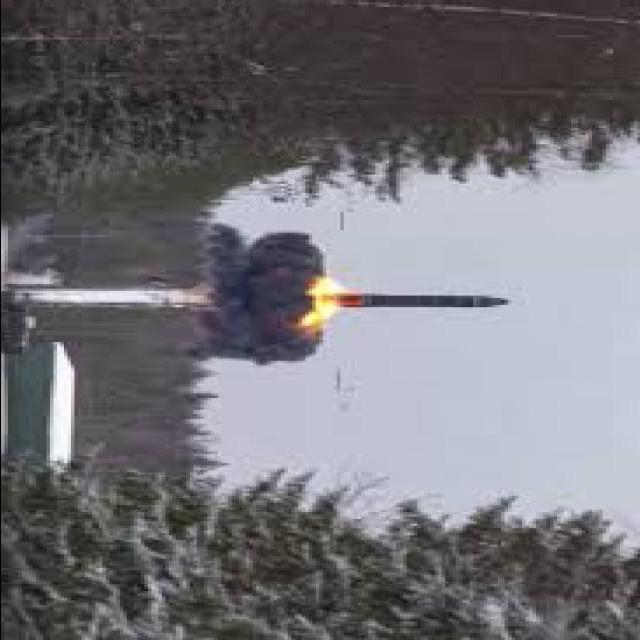missile: (306, 277, 510, 324)
